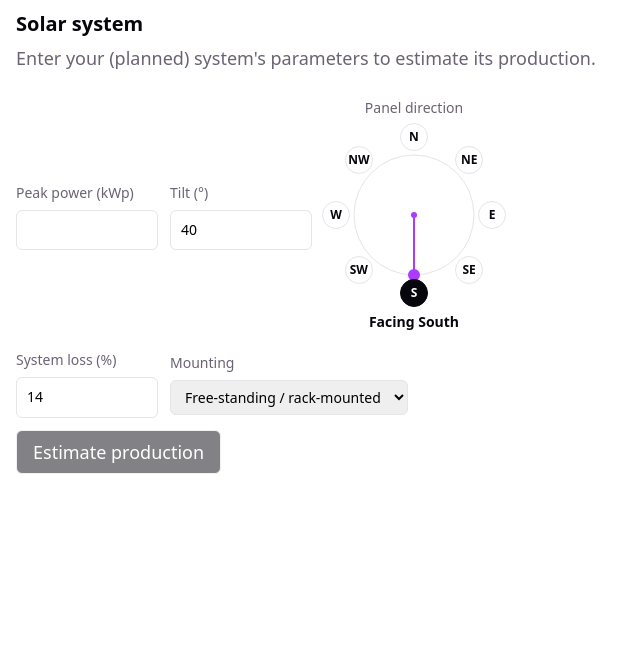
Test case: SolarEstimate › submits system params for the given location and renders the estimate
Type "5" into the number field labelled "Peak power (kWp)" at (87, 230), box [16,210,158,250]
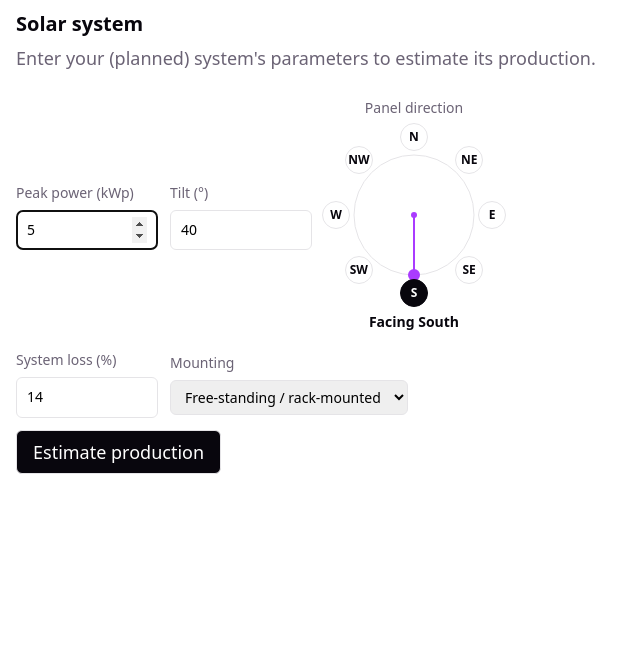
Click the button "Estimate production" at (119, 452), box [16,430,221,474]
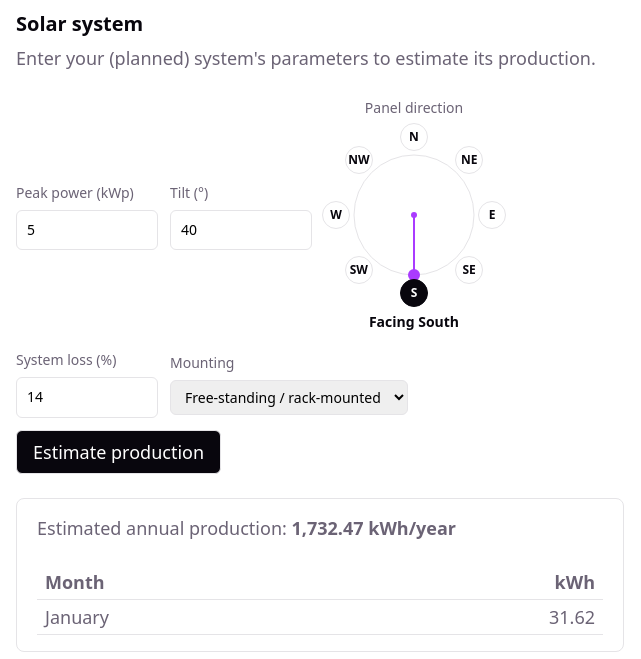
Expected: the text "1,732.47 kWh/year" is shown, [292,516,456,540]
Expected: the text "January" is shown, [37,599,356,634]
